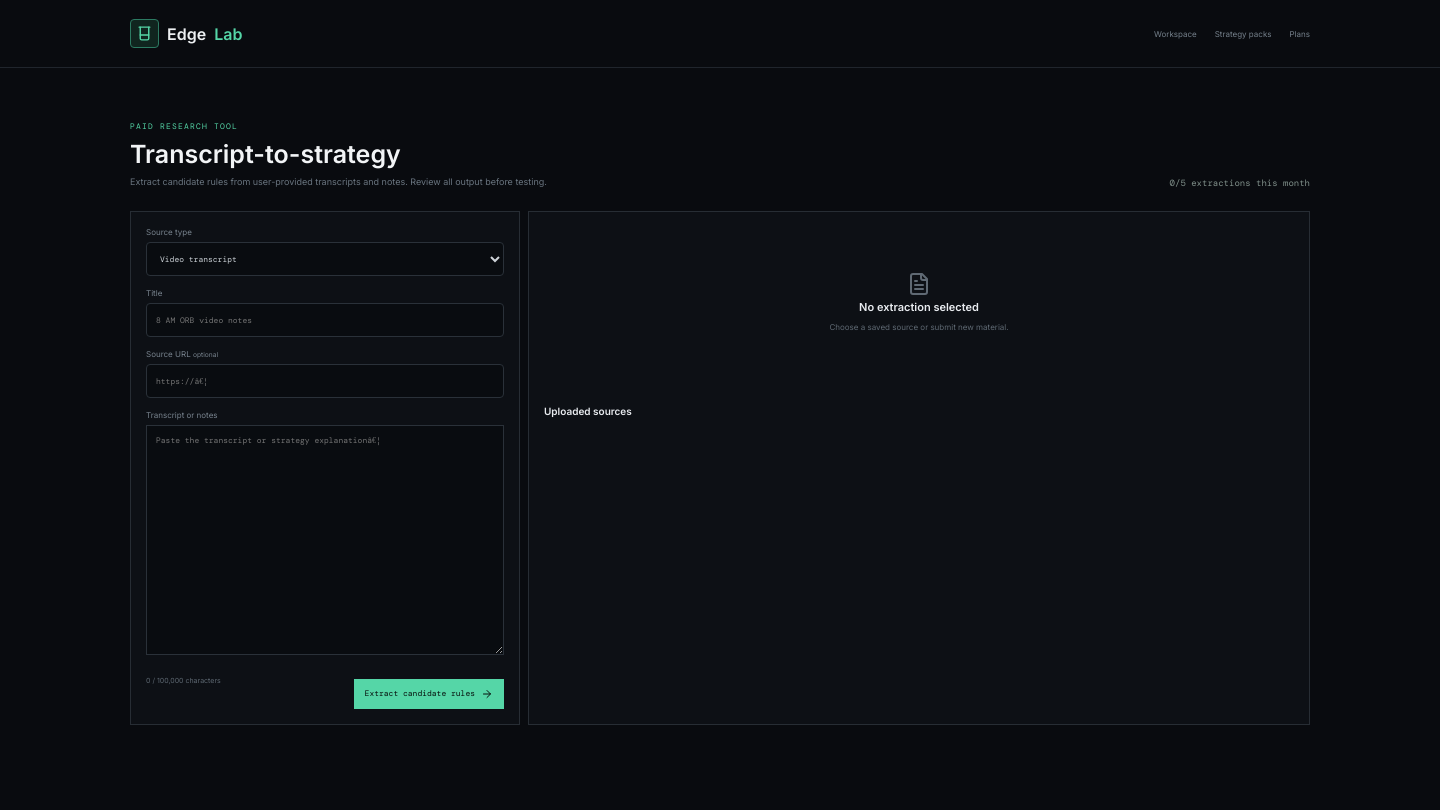
transcript and admin operations › extracts candidate rules while separating them from performance results
This screenshot has width=1440, height=810.
Expected: the heading "Transcript-to-strategy" is shown, [130,139,401,169]
In the field labelled "Title": (325, 320) [146,303,504,337], type "ORB notes"
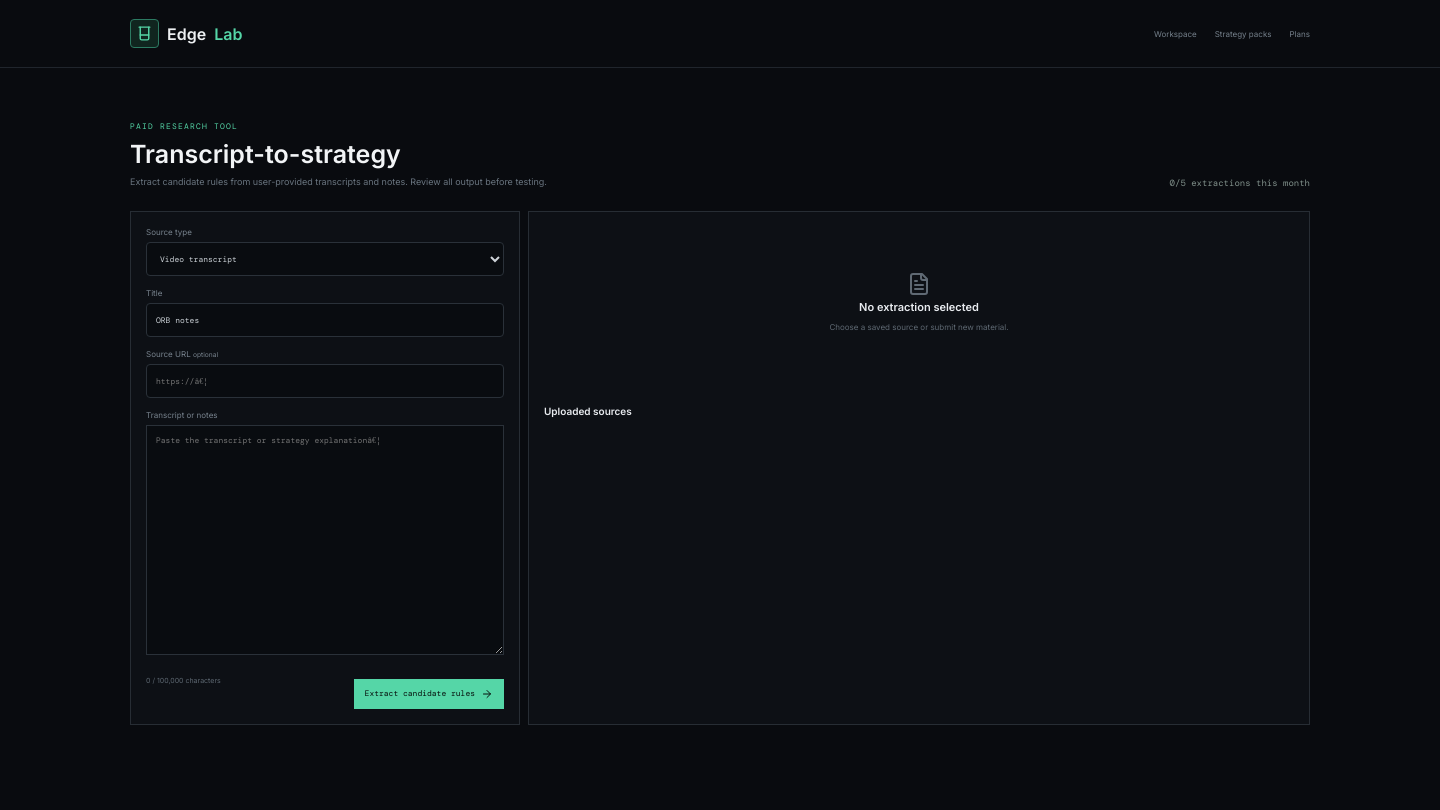
In the text box labelled "Transcript or notes": (325, 540) [146,425,504,655], type "Trade the NQ opening range breakout at 8 AM and use 1:3 risk reward."
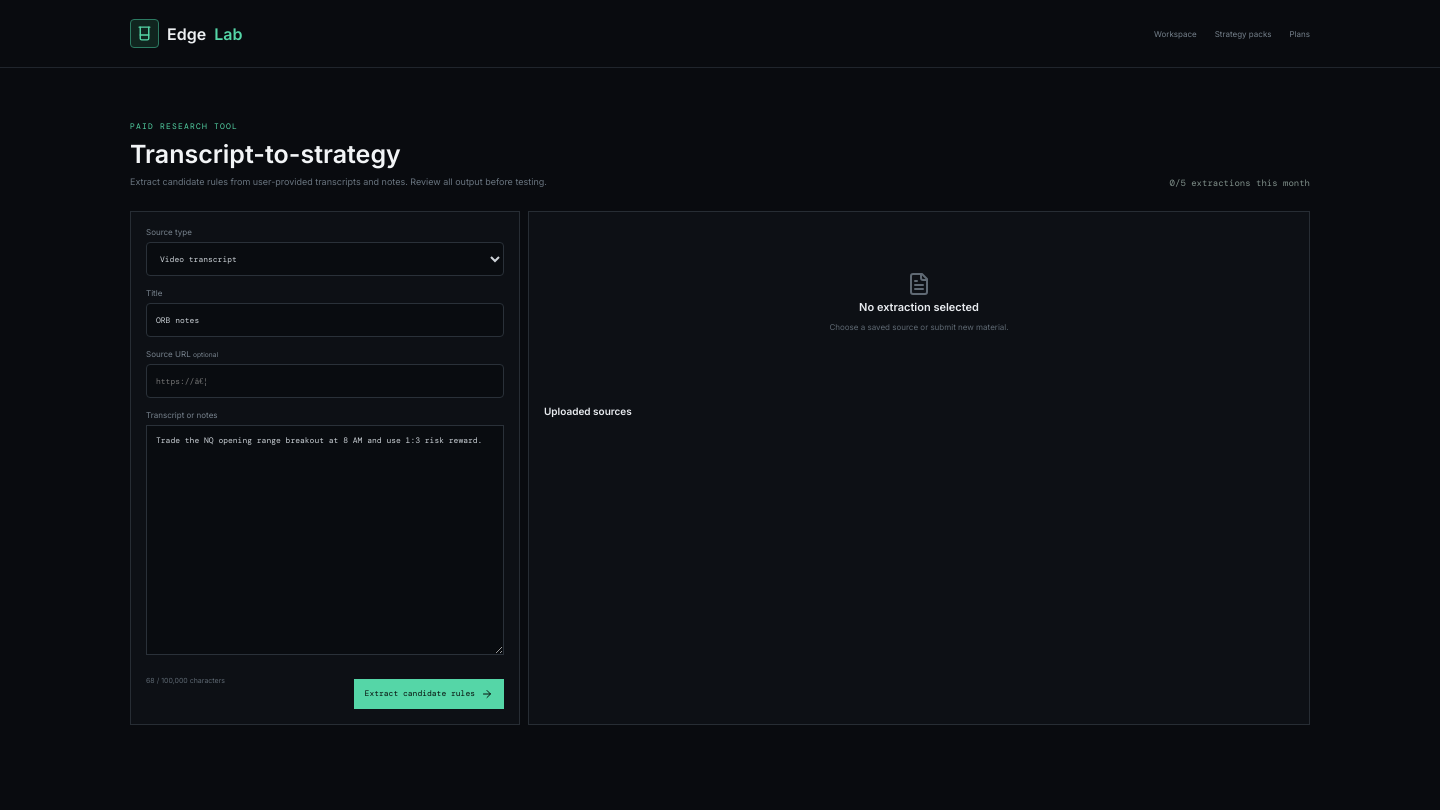
Click the button "Extract candidate rules": (429, 694) [354,679,504,709]
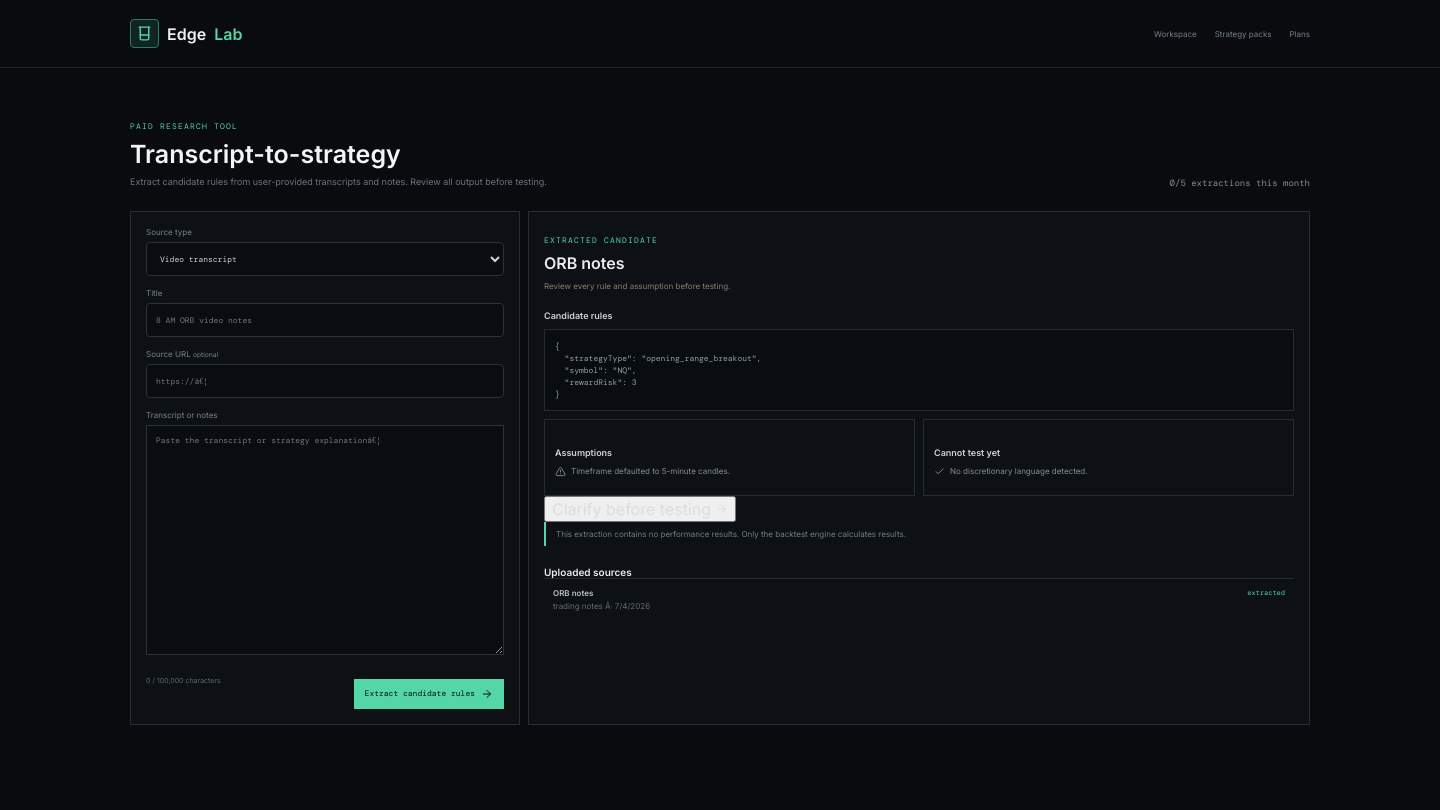
Now the heading "Candidate rules" is shown, box [544,310,612,321]
Now the text "Timeframe defaulted to 5-minute candles." is shown, box [555,466,730,477]
Now the text "contains no performance results" is shown, box [556,529,906,539]
